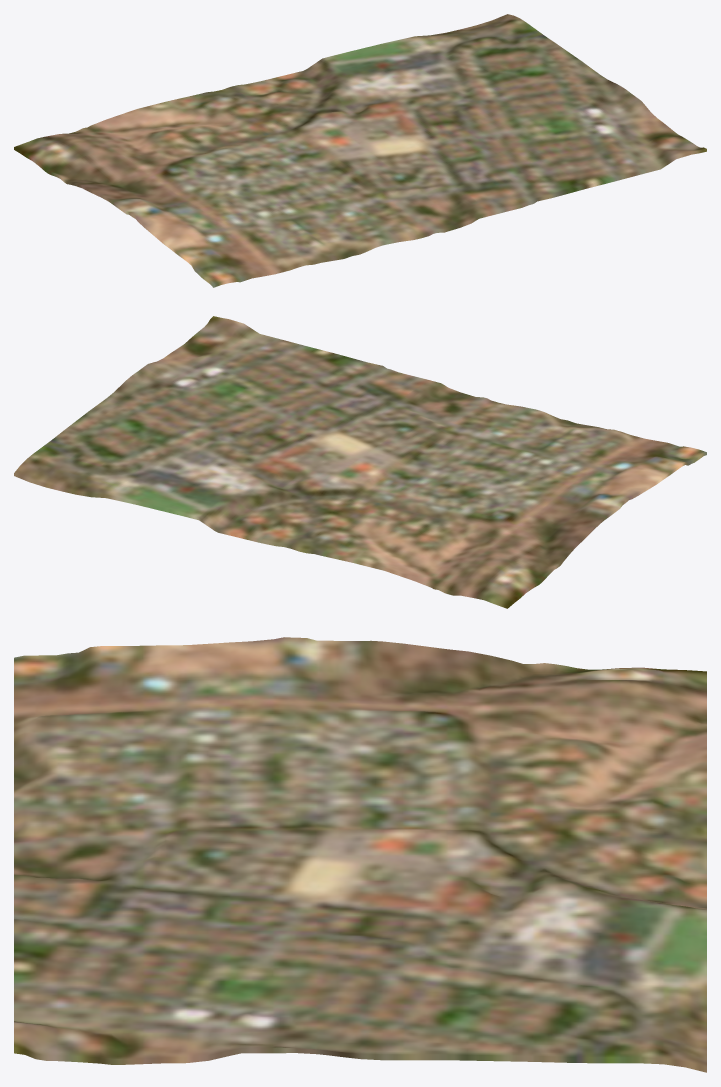
The model's file is terrain_r7_c0_lod1.glb.
3 views of the same model, one above another, from view 1: azimuth 30°, elevation 25°; view 2: azimuth 150°, elevation 25°; view 3: azimuth 270°, elevation 25° (orthographic). The views are drawn at different scales.
Visible parts, largest first — view 1: terrain_r7_c0_lod1; view 2: terrain_r7_c0_lod1; view 3: terrain_r7_c0_lod1.
Part boxes in pixels (<box>): terrain_r7_c0_lod1: <box>14,14,706,287</box>; terrain_r7_c0_lod1: <box>14,316,706,608</box>; terrain_r7_c0_lod1: <box>14,637,706,1072</box>.
Size of the model in its own units: 1125 by 59.19 by 787.
Materials: 1 (1 with a texture image).
